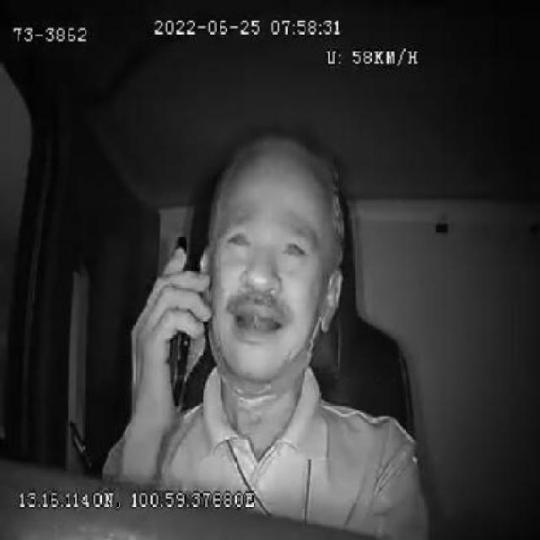phone: (164, 232, 202, 412)
